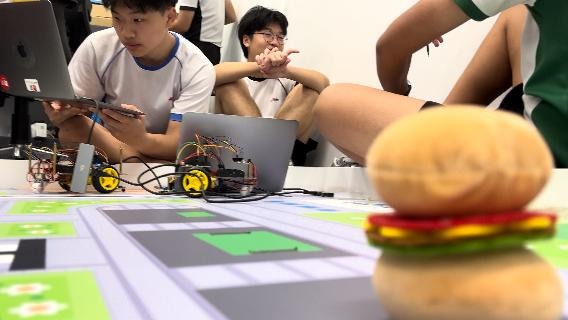burger: (363, 105, 568, 319)
